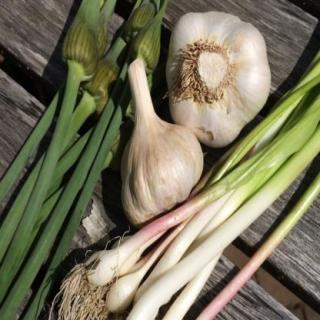Bawang Putih: (117, 58, 204, 226), (166, 12, 272, 149)
